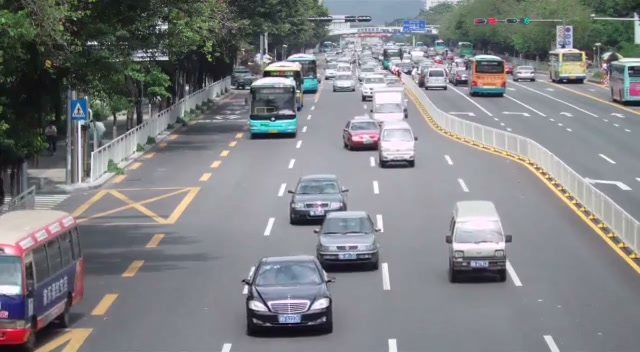bus: (0, 208, 85, 351), (248, 77, 299, 139), (263, 61, 305, 110), (468, 54, 507, 97), (608, 58, 640, 105), (287, 53, 319, 93)
car: (240, 255, 336, 336), (445, 200, 509, 283), (315, 210, 382, 271), (287, 174, 349, 225), (377, 121, 417, 168), (370, 88, 408, 124), (342, 117, 381, 151), (360, 74, 387, 102), (423, 68, 448, 91), (332, 75, 357, 93), (513, 65, 536, 82)
pedestrian: (45, 122, 58, 155)
truck: (548, 48, 588, 84)
